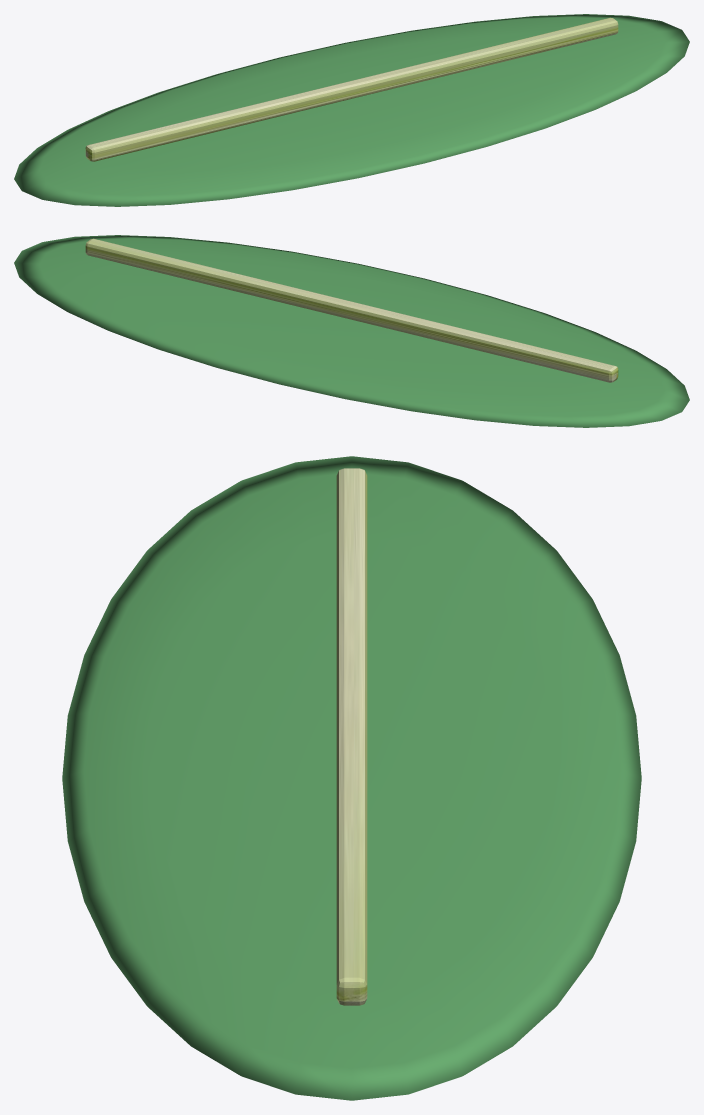
File: BananaLeaf.fbx
3 renders of one model, top to bottom at view 1: azimuth 30°, elevation 25°; view 2: azimuth 150°, elevation 25°; view 3: azimuth 270°, elevation 25°, orthographic. The views are drawn at different scales.
Visible parts, largest first — view 1: BananaLeaf, BananaLeafVein; view 2: BananaLeaf, BananaLeafVein; view 3: BananaLeaf, BananaLeafVein.
Part boxes in pixels (x1,y1,x2,y2): BananaLeaf: (14, 14, 689, 206); BananaLeafVein: (85, 17, 618, 161); BananaLeaf: (14, 235, 689, 427); BananaLeafVein: (85, 238, 618, 382); BananaLeaf: (62, 456, 641, 1100); BananaLeafVein: (336, 468, 367, 1005).
Size of the model in its own units: 0.4 by 0.022 by 0.152.
